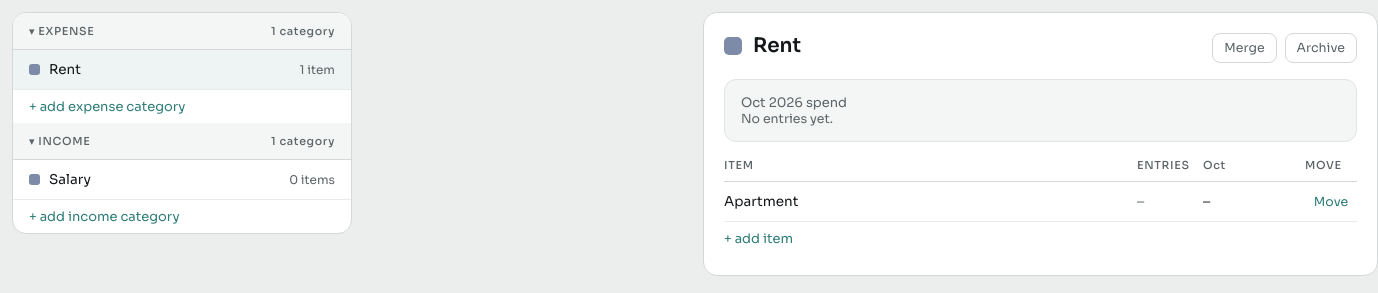
Test: Categories screen › shows expense before income, counts, selection, square swatches, and no figures
The width and height of the screenshot is (1378, 293).
Expected: the text "1 category" is shown 2 times, [271,24,335,38]; [271,134,335,148]
Expected: the heading "Rent" is shown, [753,33,801,58]
Click the button "Salary" at point(70, 180), box [49,171,91,188]
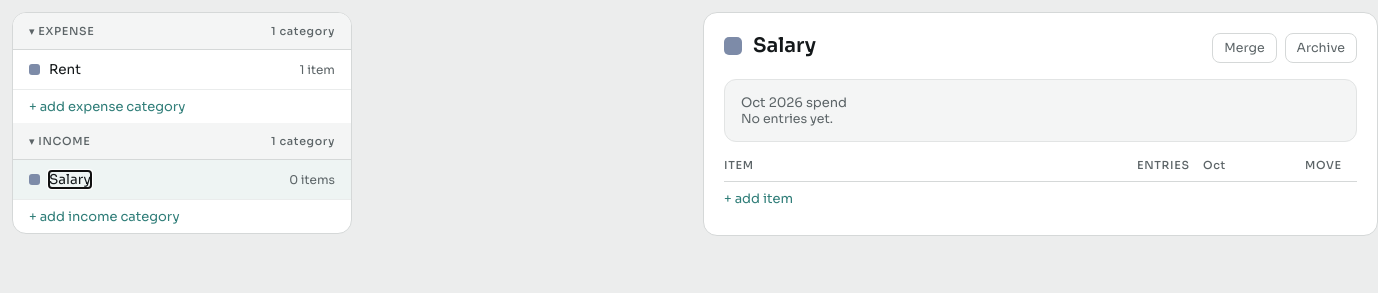
Now the heading "Salary" is shown, box [753,33,816,58]
